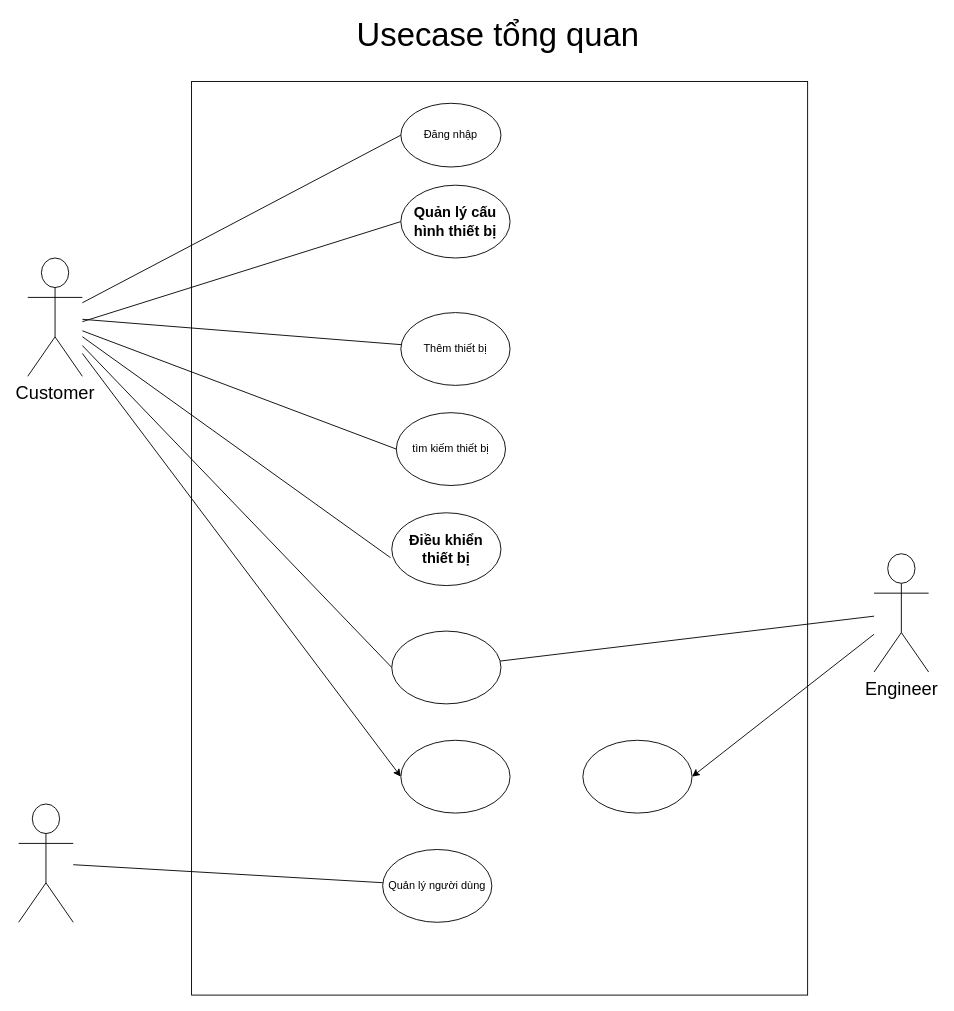
Some shapes in this 954 by 1011 pixel diagram are drawn without their labels. The centre of each missing label's shape, as x and y in pixels:
"Admin" goes at point (45, 862).
"Báo lỗi đến kĩ sư" goes at point (446, 667).
"Quản lý loại thiết bị" goes at point (637, 776).
"Quản lý thông báo" goes at point (455, 776).
